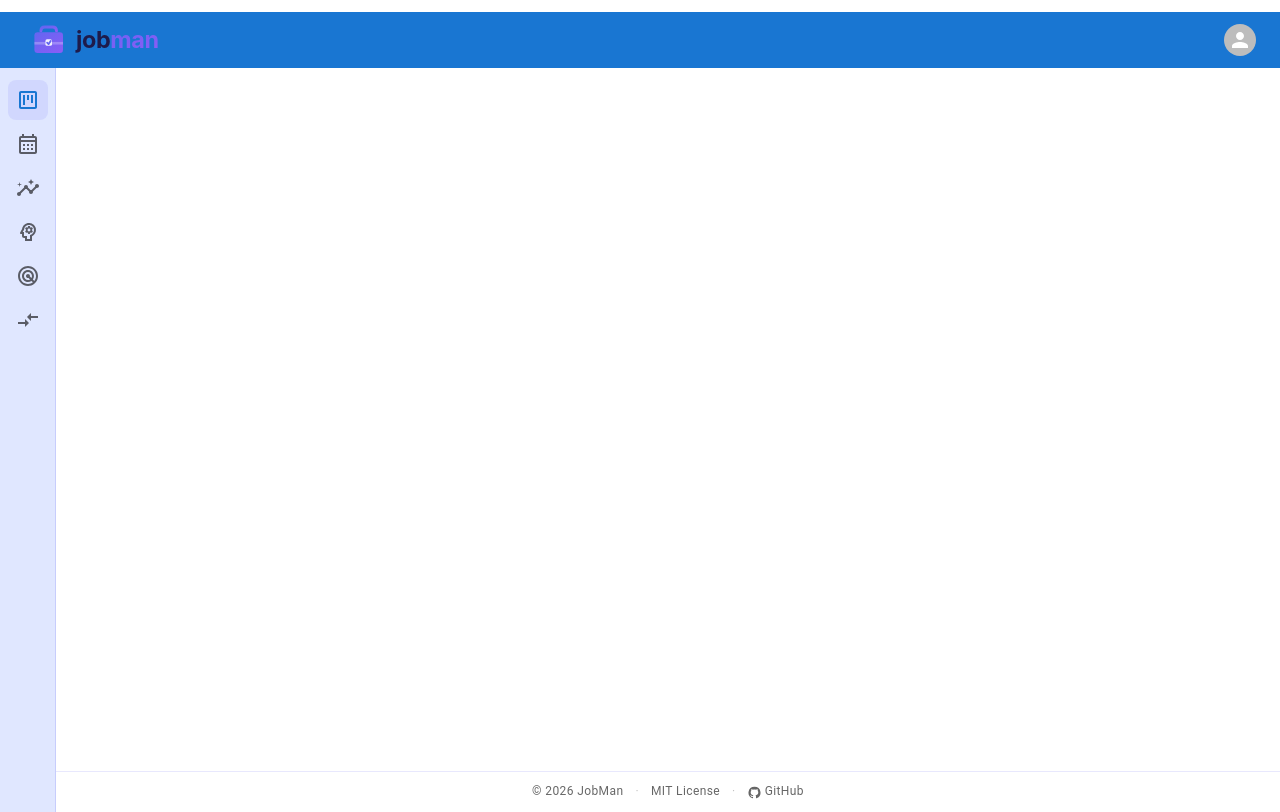
Test: appShell › closes user menu when Sign Out is clicked
Click the button named "User menu" at (1240, 40), box [1224,24,1256,56]
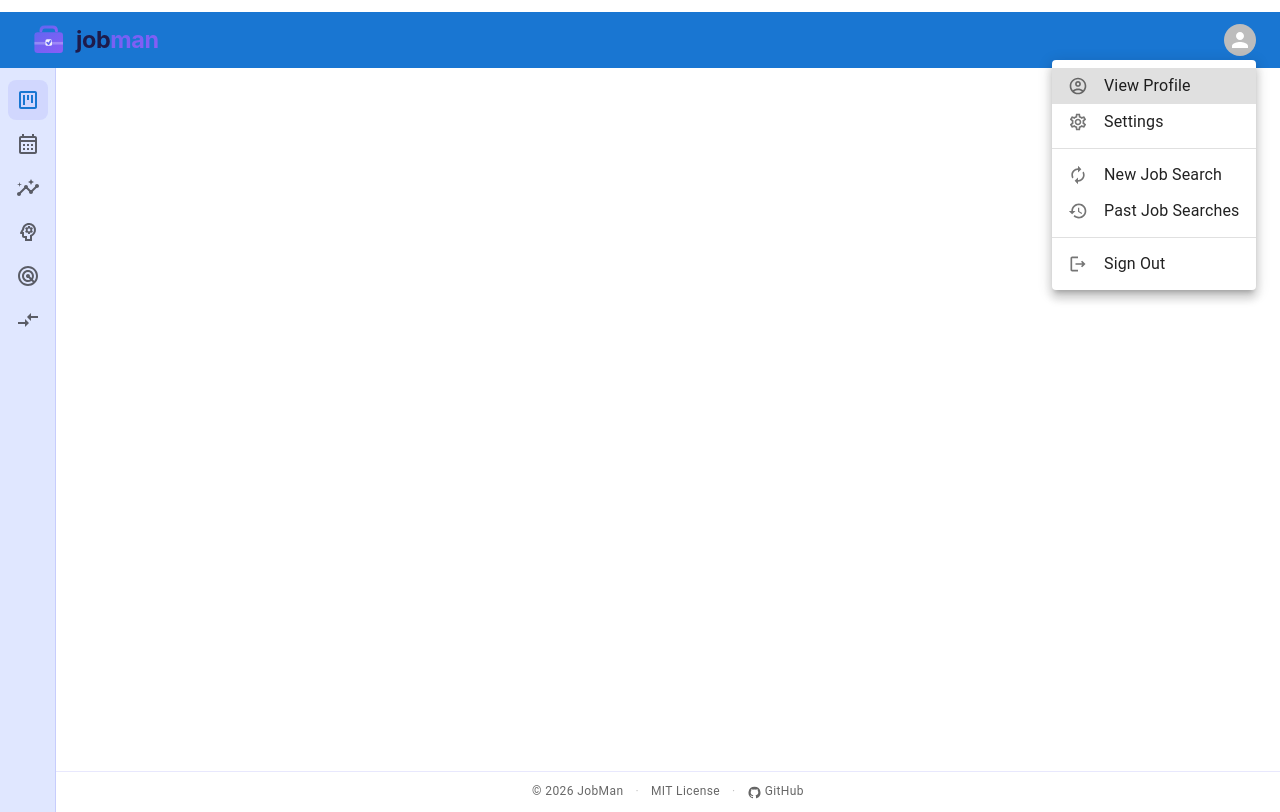
Click the menu item "Sign Out" at (1117, 264), box [1068,254,1166,274]
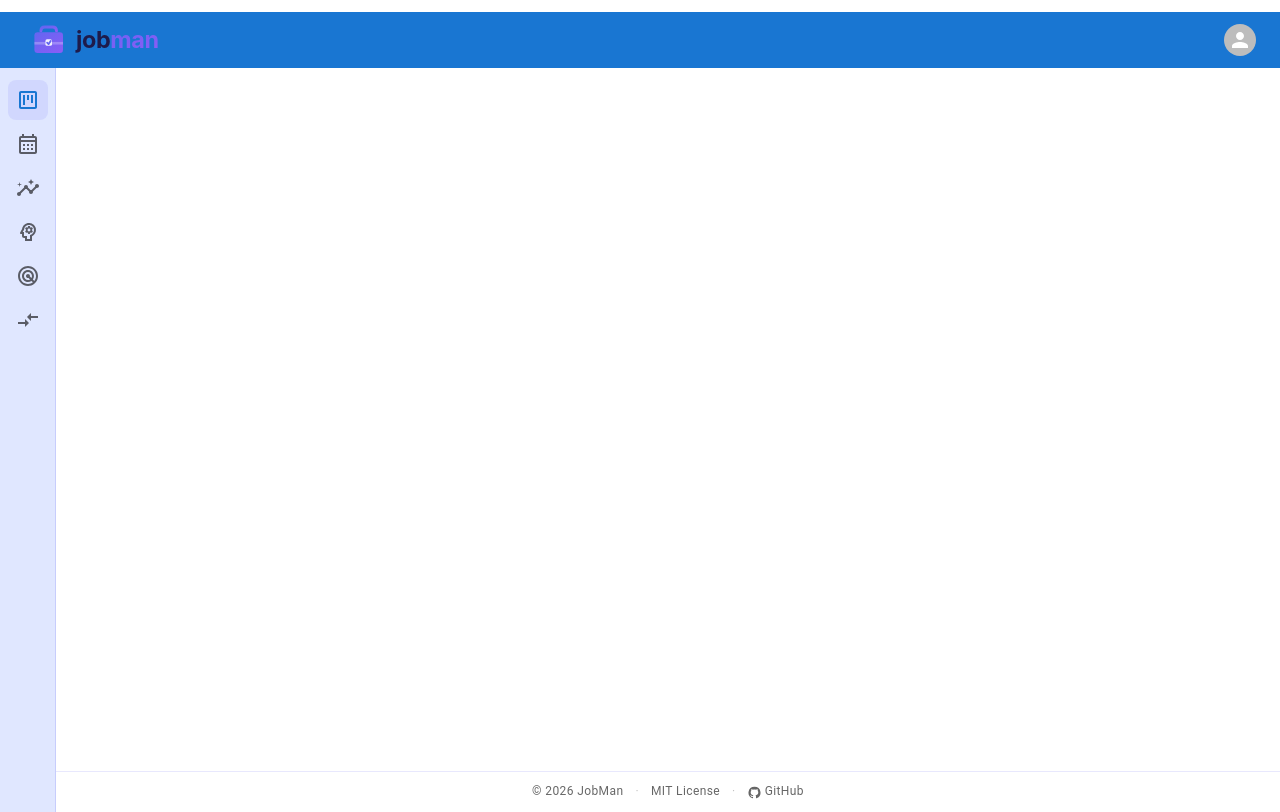
Now the menu item "Sign Out" is gone
